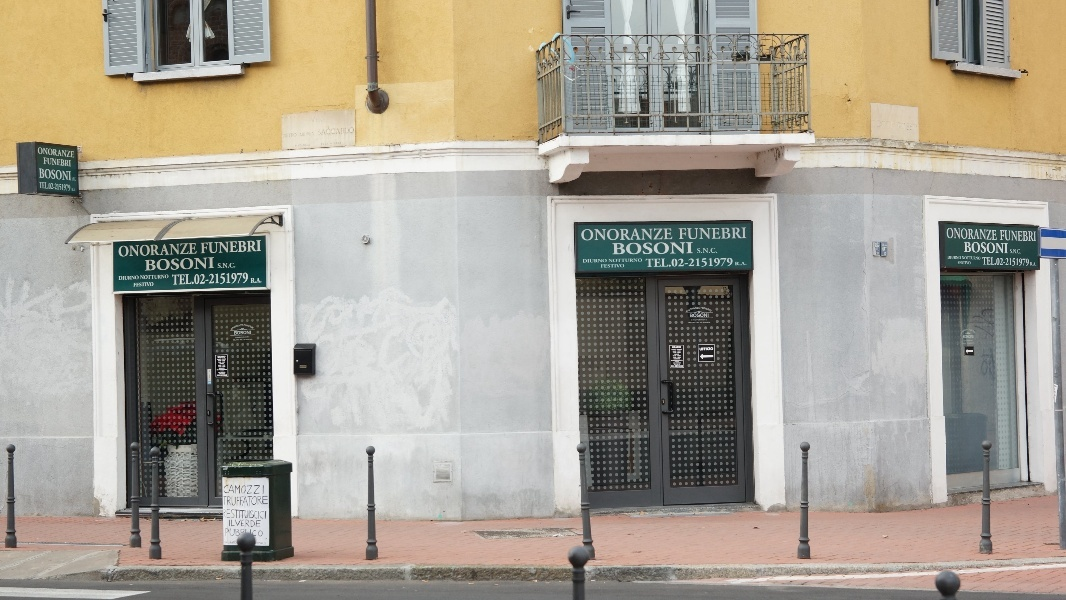text: (673, 346, 684, 367), (129, 243, 144, 258), (145, 243, 160, 258), (161, 243, 176, 258), (177, 243, 192, 258), (145, 257, 160, 271), (161, 257, 176, 271), (177, 257, 192, 271), (193, 257, 208, 271), (49, 168, 64, 181), (209, 241, 224, 254), (225, 241, 240, 254), (241, 241, 256, 254), (657, 229, 673, 241), (993, 242, 1009, 254), (209, 273, 224, 285), (225, 273, 240, 285), (689, 228, 704, 240), (705, 228, 720, 240), (721, 228, 736, 240), (625, 243, 640, 255), (641, 243, 656, 255), (657, 243, 672, 255), (673, 243, 688, 255), (593, 229, 608, 241), (609, 229, 624, 241), (625, 229, 640, 241), (641, 229, 656, 241), (961, 228, 976, 240), (977, 228, 992, 240), (1009, 230, 1024, 242), (977, 242, 992, 254), (194, 273, 208, 285), (49, 147, 64, 158), (177, 274, 192, 285), (225, 496, 240, 507), (241, 496, 256, 507), (947, 228, 960, 240), (209, 370, 224, 380), (225, 509, 240, 519), (241, 509, 256, 519), (612, 243, 624, 255), (1025, 230, 1037, 242), (964, 242, 976, 254), (217, 356, 224, 376), (49, 158, 64, 167), (119, 243, 128, 258), (225, 485, 240, 494), (241, 485, 256, 494), (241, 528, 256, 537), (673, 258, 688, 267), (689, 258, 704, 267), (705, 258, 720, 267), (226, 528, 240, 537), (657, 259, 671, 268), (257, 496, 268, 507), (49, 183, 64, 191), (737, 228, 747, 240), (582, 229, 592, 241), (1009, 258, 1024, 266), (39, 168, 48, 181), (38, 147, 48, 158), (65, 147, 75, 158), (679, 228, 688, 240), (721, 258, 733, 267), (241, 520, 256, 527), (241, 273, 249, 285), (1000, 230, 1008, 242), (201, 241, 208, 254), (257, 509, 266, 519), (646, 259, 656, 268), (997, 258, 1008, 266), (983, 257, 992, 266), (230, 323, 240, 331), (65, 168, 71, 181), (705, 248, 718, 254), (689, 306, 700, 313), (145, 275, 160, 280), (244, 323, 256, 329), (209, 257, 214, 271), (230, 520, 240, 527), (690, 313, 704, 318), (1010, 249, 1024, 254), (225, 263, 236, 269), (609, 264, 625, 268), (65, 158, 72, 167), (39, 182, 48, 189), (257, 485, 264, 494), (193, 243, 197, 258), (225, 356, 228, 376), (609, 259, 624, 263), (625, 259, 640, 263), (964, 329, 976, 334), (705, 306, 713, 313), (593, 259, 607, 263), (257, 528, 263, 537), (257, 241, 261, 254), (963, 256, 976, 260), (65, 183, 71, 191), (689, 243, 693, 255), (993, 228, 997, 240), (948, 256, 960, 260), (964, 335, 976, 339), (133, 283, 144, 287), (172, 274, 176, 285), (226, 541, 240, 544), (697, 248, 704, 254), (882, 244, 896, 247), (882, 248, 896, 251), (129, 276, 139, 280), (161, 275, 169, 280), (241, 331, 251, 335), (737, 262, 747, 266), (1025, 258, 1030, 266), (44, 158, 48, 167), (218, 263, 224, 269), (119, 276, 128, 280), (145, 283, 154, 287), (705, 347, 714, 351), (583, 259, 592, 263), (993, 257, 997, 266), (72, 177, 80, 181), (72, 188, 80, 192), (251, 278, 256, 284), (257, 278, 262, 284), (689, 322, 704, 324), (1030, 263, 1040, 266), (961, 262, 971, 265), (257, 520, 261, 527), (601, 264, 608, 268), (691, 319, 704, 321), (963, 343, 976, 345), (234, 331, 240, 335), (241, 339, 253, 341), (884, 253, 896, 255), (671, 346, 672, 367), (685, 306, 688, 313), (701, 306, 704, 313), (140, 275, 144, 280), (705, 313, 709, 318), (241, 337, 250, 339), (241, 323, 243, 331), (700, 347, 704, 351), (977, 256, 981, 260), (875, 248, 880, 251), (233, 339, 240, 341), (257, 542, 263, 544), (705, 322, 711, 324), (964, 341, 976, 342), (193, 274, 194, 285), (223, 496, 224, 507), (875, 244, 880, 246), (877, 252, 880, 255), (236, 337, 240, 339), (641, 259, 643, 263), (705, 319, 708, 321), (958, 262, 960, 265), (735, 262, 736, 266), (961, 256, 962, 260)
